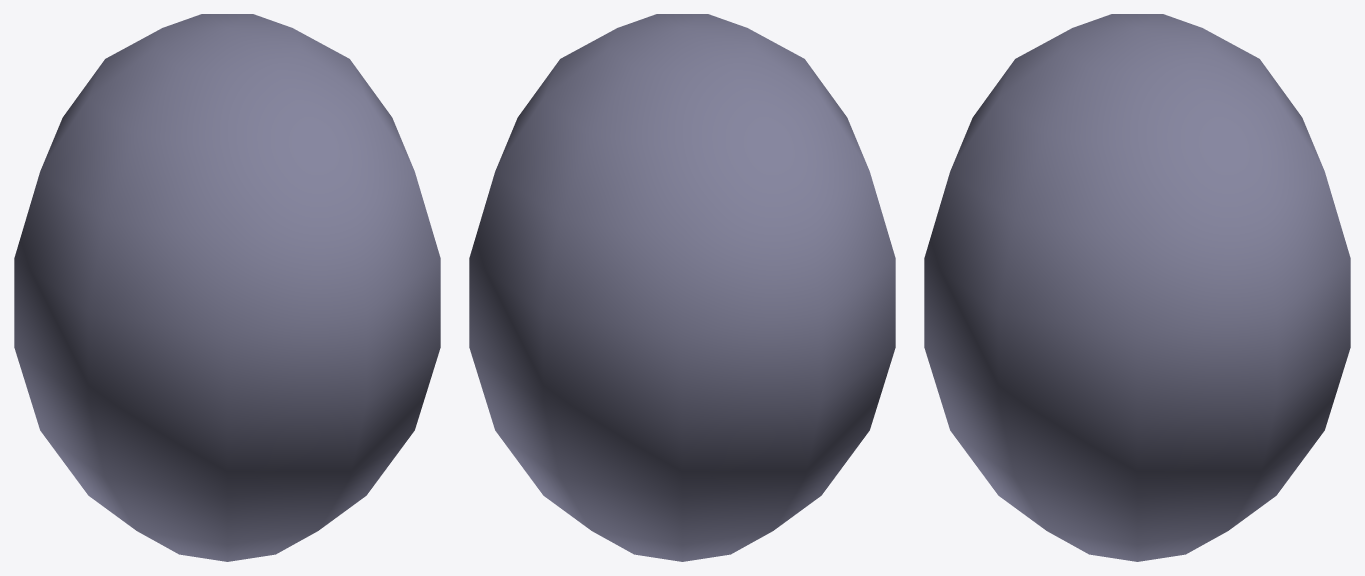
Rendered from ironkit_stage1.obj.
The picture shows the model from 3 angles, left to right: view 1: azimuth 30°, elevation 25°; view 2: azimuth 150°, elevation 25°; view 3: azimuth 270°, elevation 25°; orthographic projection.
Size of the model in its own units: 1.24 by 1.69 by 1.26.
